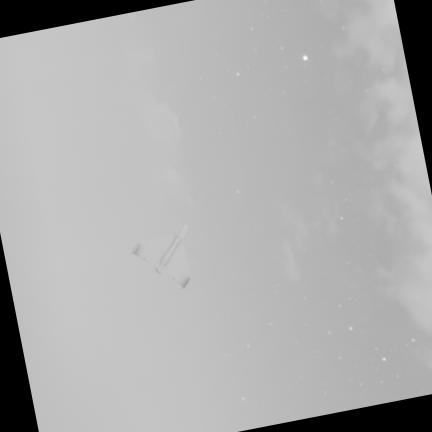Shahed: (132, 227, 190, 288)
